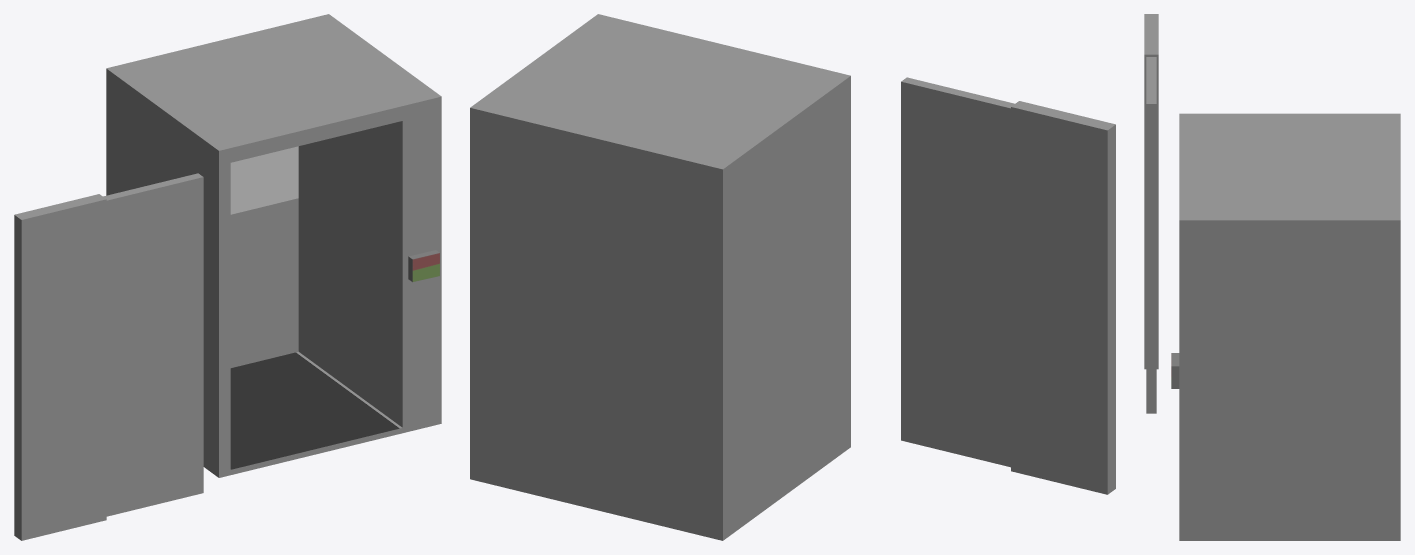
File: ascenseur.fbx
The picture shows the model from 3 angles, left to right: view 1: azimuth 30°, elevation 25°; view 2: azimuth 150°, elevation 25°; view 3: azimuth 270°, elevation 25°; orthographic projection. The views are drawn at different scales.
Visible parts, largest first — view 1: box, porte; view 2: box, porte; view 3: box, porte.
Boxes of the visible parts, left/top/right/bottom form: box: left=106, top=14, right=441, bottom=477; porte: left=14, top=173, right=203, bottom=540; box: left=470, top=14, right=850, bottom=540; porte: left=901, top=77, right=1115, bottom=494; box: left=1171, top=113, right=1400, bottom=540; porte: left=1144, top=14, right=1158, bottom=413.
Size of the model in its own units: 11.21 by 8 by 5.79.
